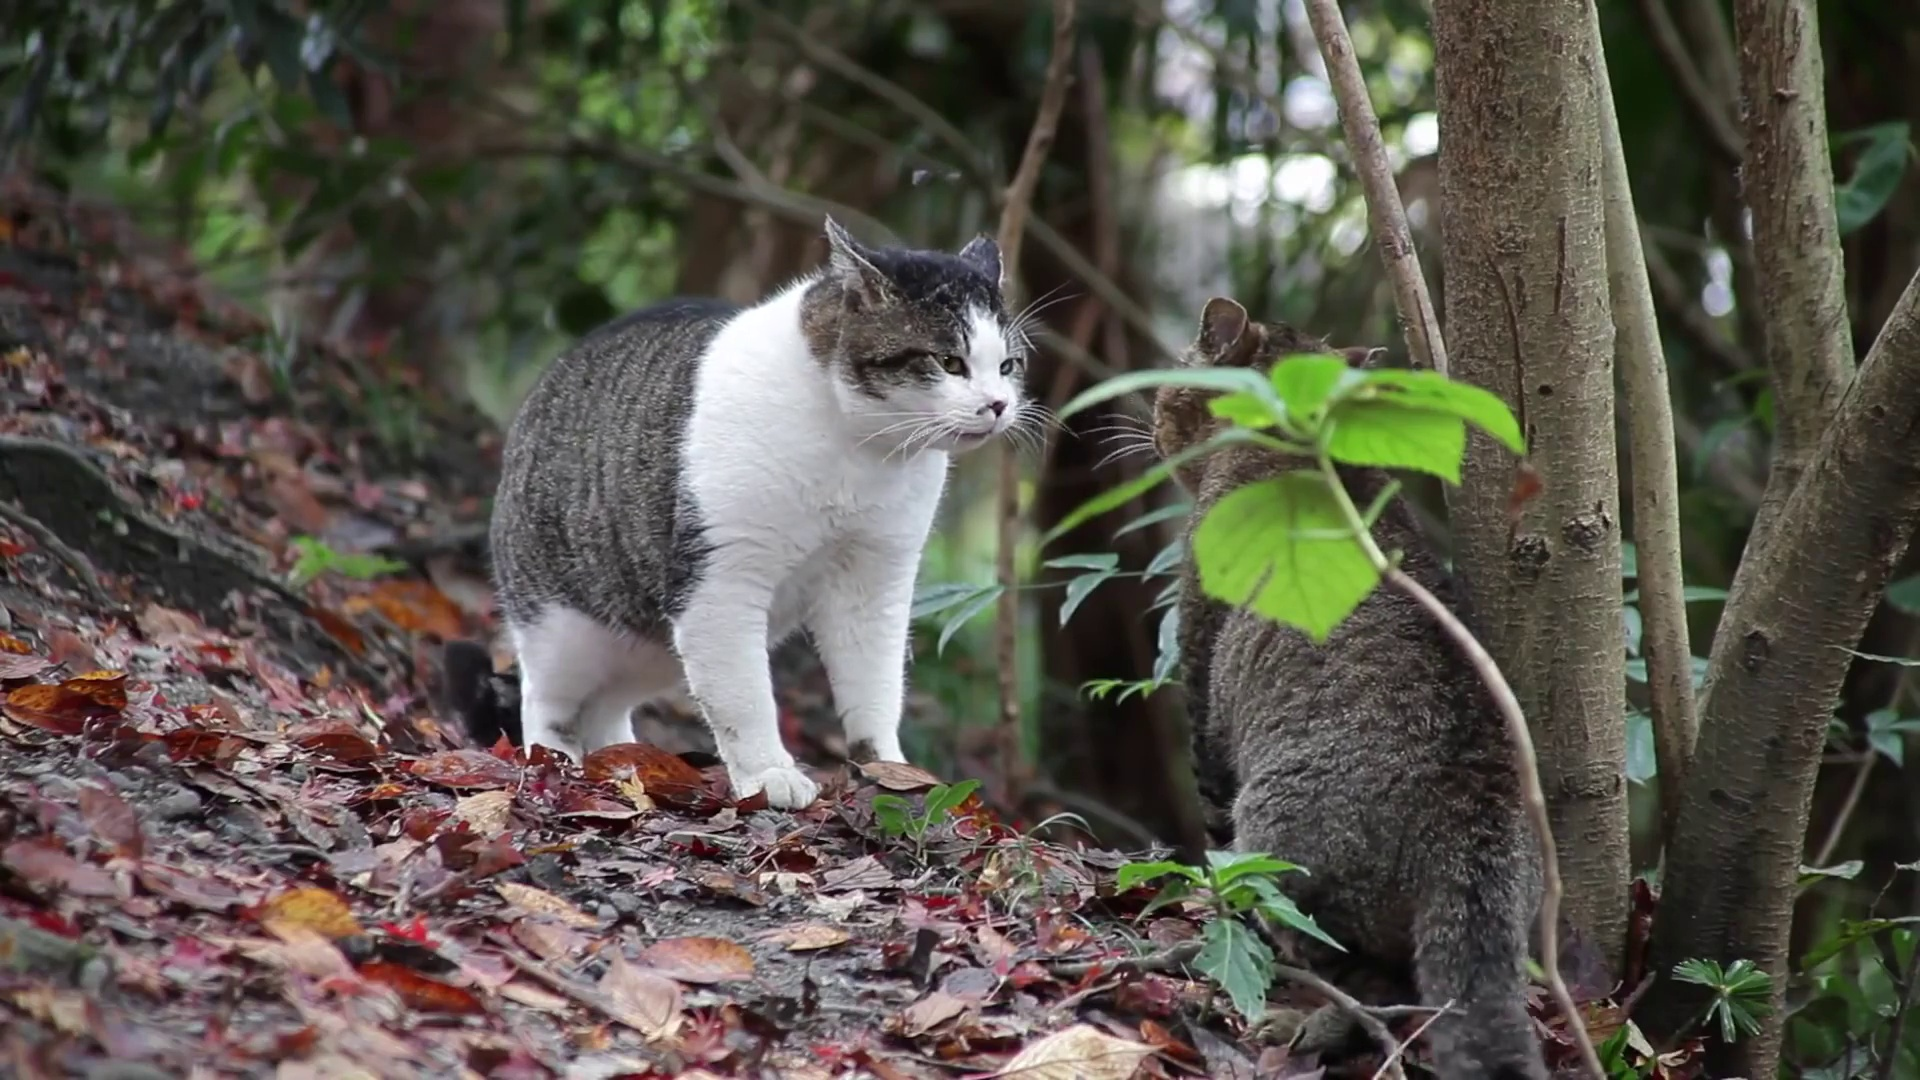black-white: (484, 210, 1023, 812)
pure black: (1149, 295, 1549, 1080)
